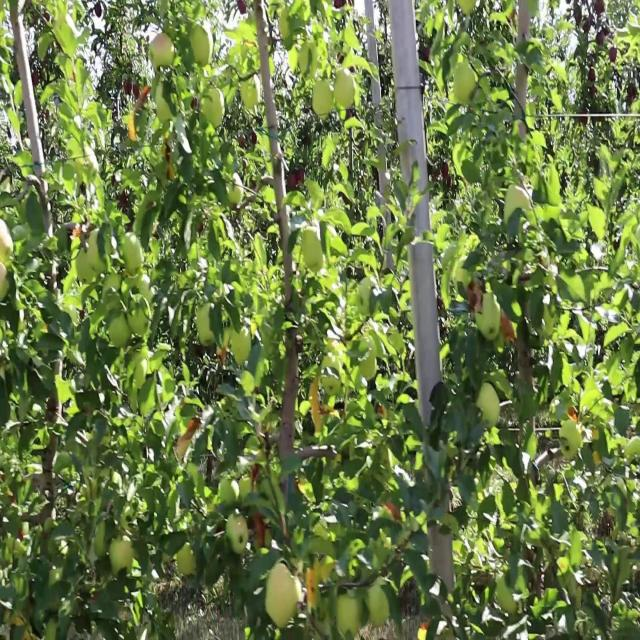apple: (268, 568, 303, 626), (452, 63, 477, 107), (476, 383, 500, 425), (312, 376, 335, 416), (176, 419, 199, 457), (192, 28, 213, 69), (152, 35, 175, 71), (312, 85, 334, 121), (336, 71, 356, 107), (112, 540, 133, 572), (176, 547, 196, 576), (468, 277, 484, 313), (308, 568, 320, 610), (252, 519, 268, 549), (244, 85, 260, 112), (228, 184, 244, 208), (288, 170, 304, 192), (384, 504, 401, 523), (460, 0, 477, 18), (140, 85, 152, 107), (280, 21, 293, 41), (128, 120, 138, 142), (600, 28, 611, 48), (344, 106, 354, 123), (436, 14, 445, 32), (252, 462, 260, 482), (568, 412, 580, 425), (444, 163, 451, 185), (608, 49, 618, 64), (332, 0, 344, 12), (628, 85, 636, 103), (32, 71, 41, 87), (4, 268, 9, 295), (240, 0, 248, 16), (96, 7, 104, 21), (20, 526, 24, 540)
